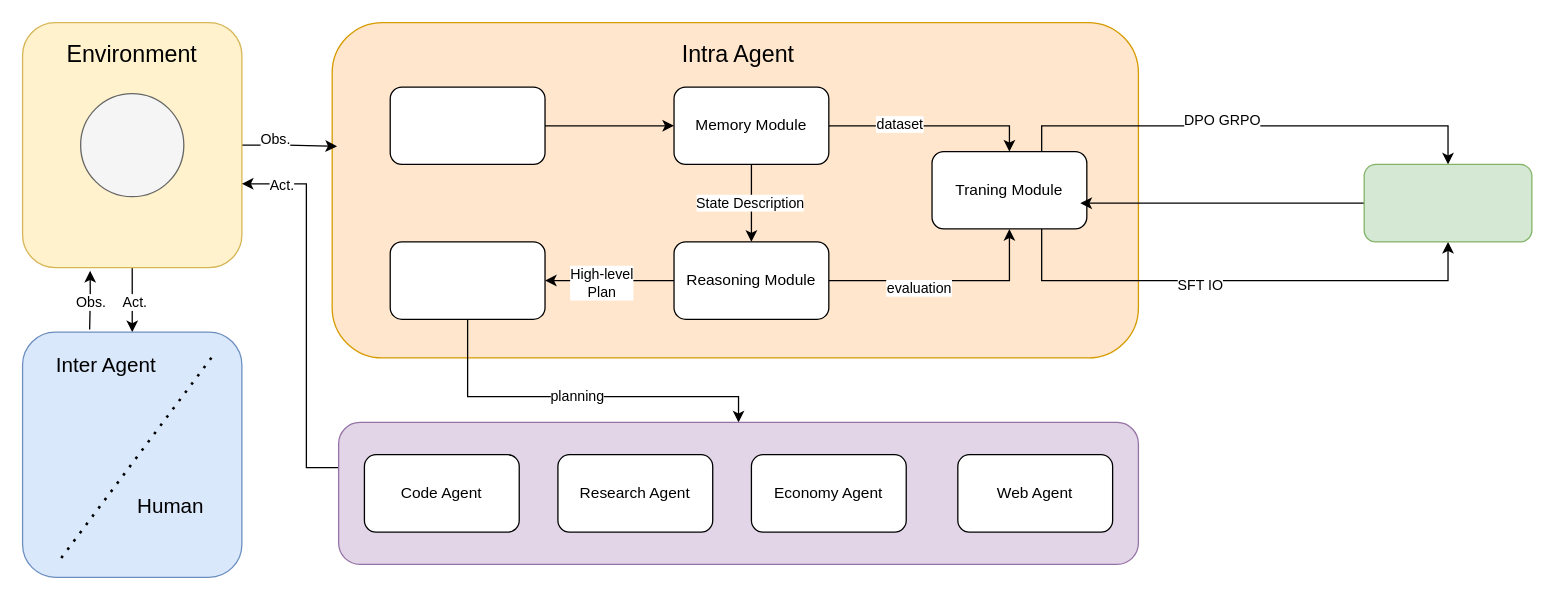
Image size: 1554x600. Some labels were removed from this diagram. The centre of each missing label's shape, as x and y in pixels:
Communication Module: point (467, 125)
Optimizer: point (1447, 202)
Planning Module: point (467, 280)
Simulator: point (131, 144)
